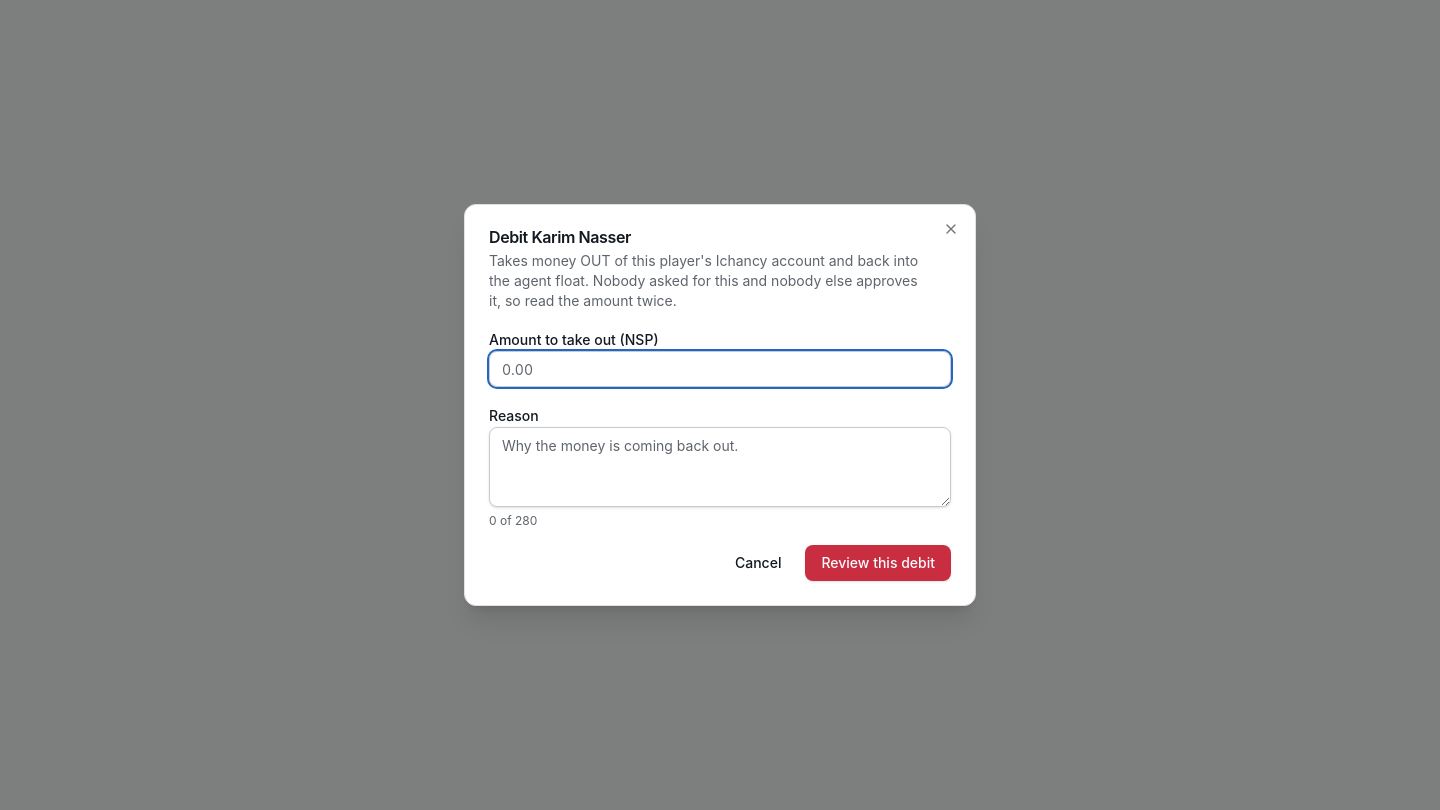
DebitPlayerDialog › will not move to the confirmation without an amount and a reason
Click the button "Review this debit": click(878, 563) [805,545,951,581]
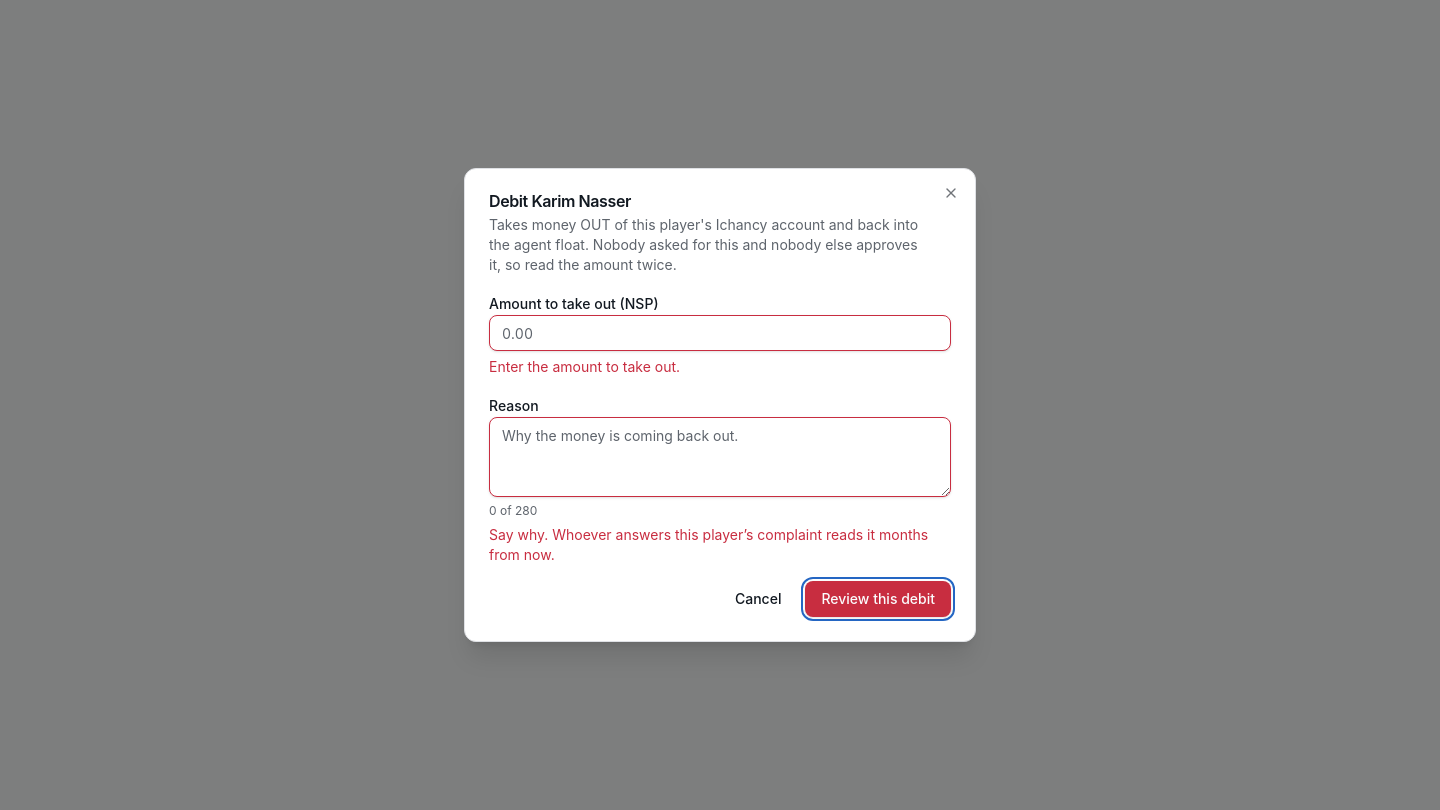
expect the text "Enter the amount to take out." is shown: met, box [489,358,680,375]
expect the text "Say why. Whoever answers this player’s complaint reads it months from now." is shown: met, box [489,525,951,565]
